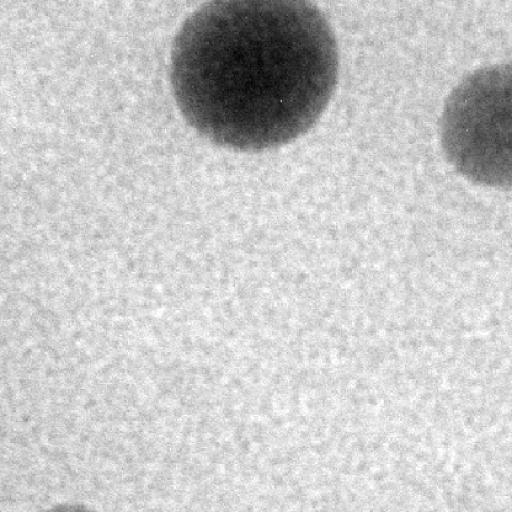Nanoparticles: (169, 2, 341, 154), (435, 64, 511, 192)
